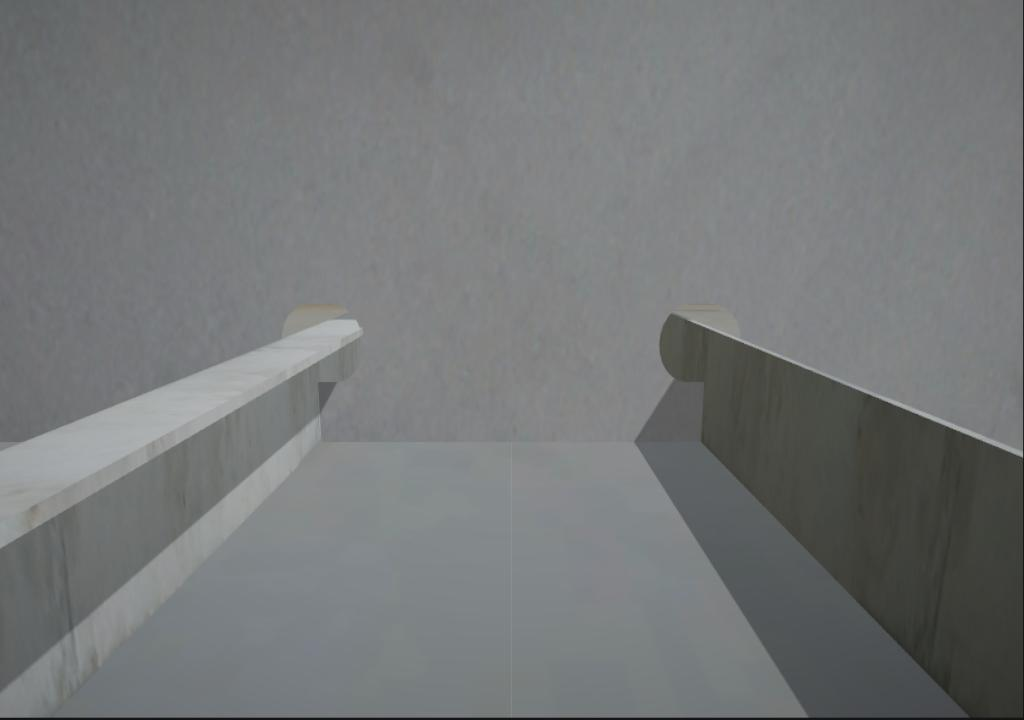fillet_yong_jeop_jang: (303, 430, 713, 450)
longi_yong_jeop_jang: (688, 371, 717, 453), (311, 377, 332, 457)
